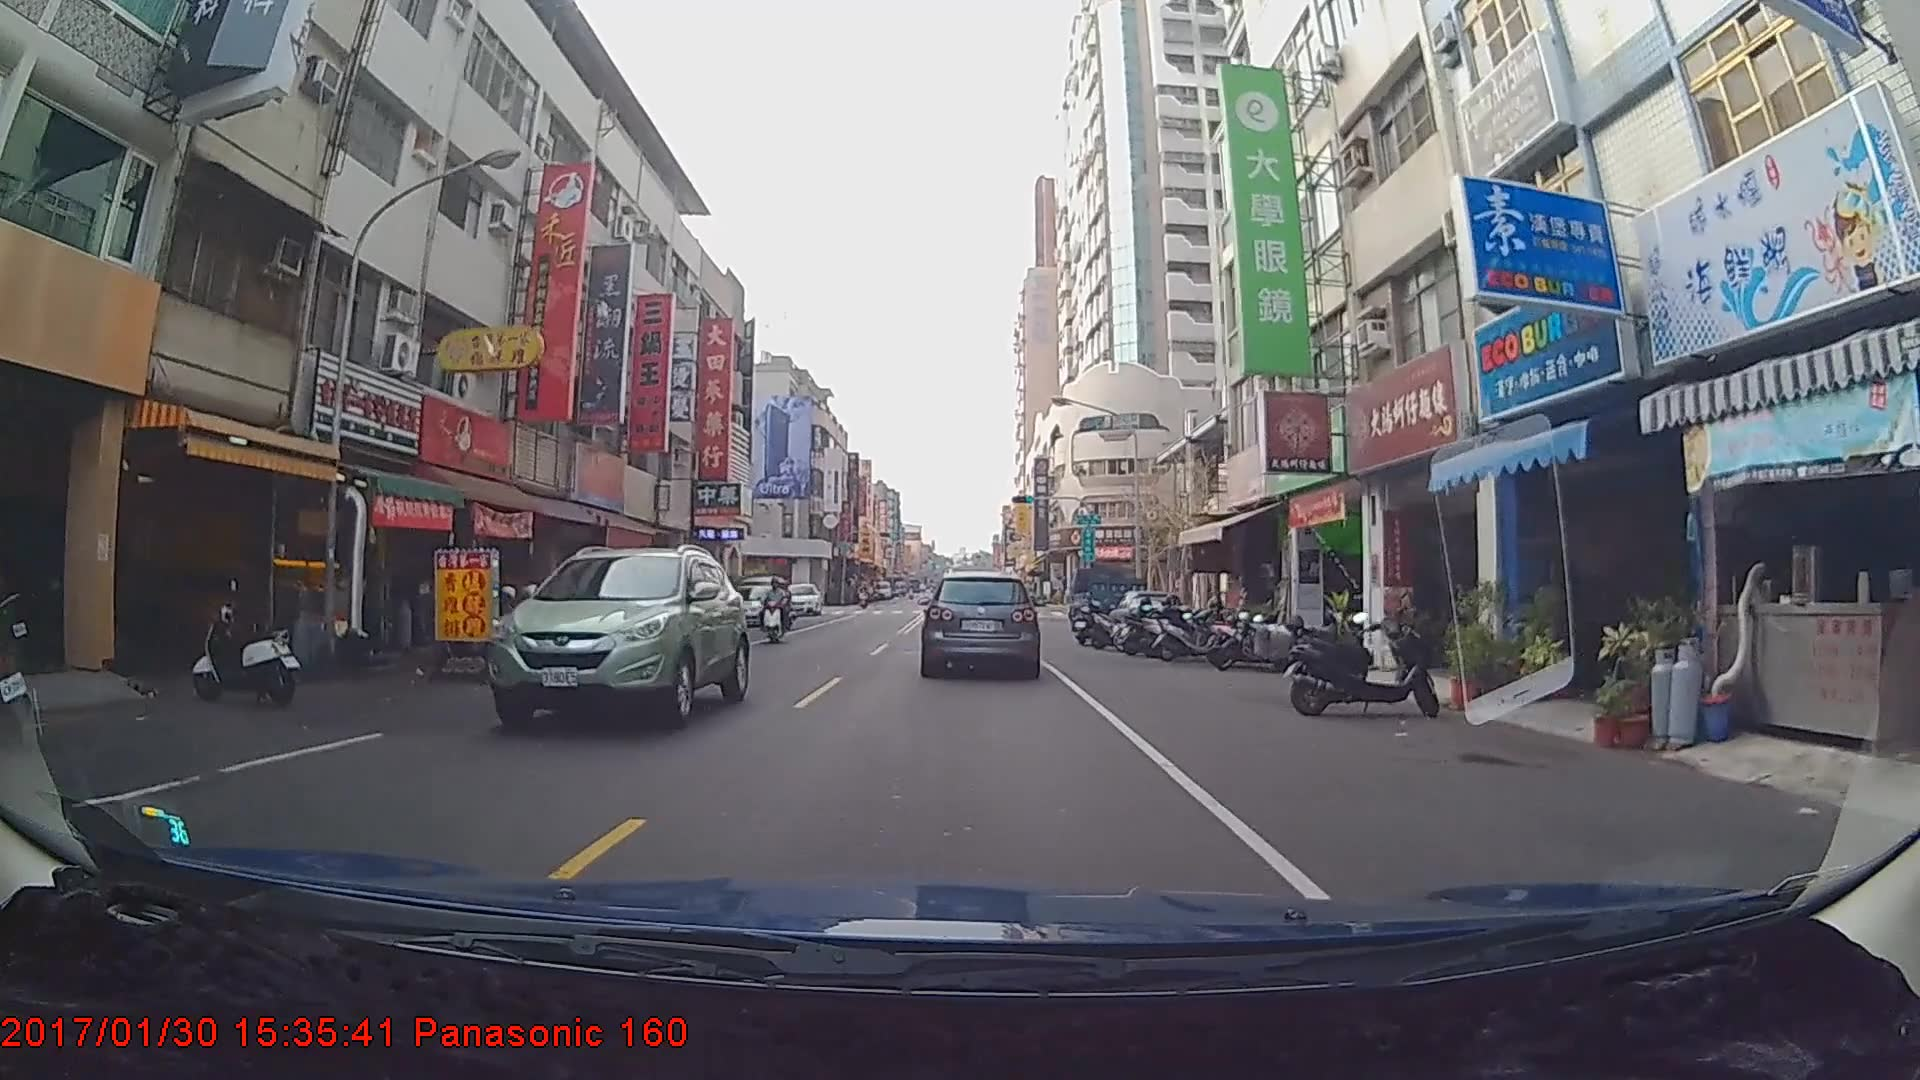rider: (764, 574, 793, 639)
vehicle: (482, 544, 749, 733), (923, 569, 1038, 676), (1067, 566, 1151, 633), (780, 583, 821, 616)
